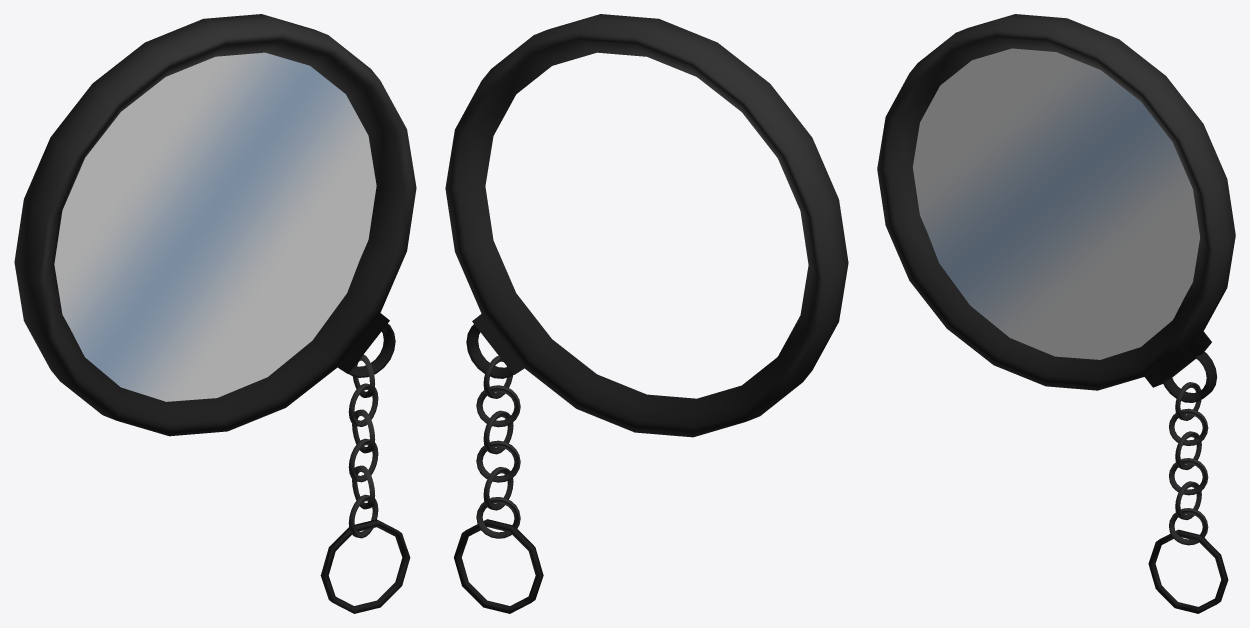
The model's file is EYE_monocle.gltf.
The picture shows the model from 3 angles, left to right: view 1: azimuth 30°, elevation 25°; view 2: azimuth 150°, elevation 25°; view 3: azimuth 330°, elevation 25°; orthographic projection. The views are drawn at different scales.
Visible parts, largest first — view 1: monocle_lens, monocle_frame; view 2: monocle_frame; view 3: monocle_lens, monocle_frame.
Boxes of the visible parts, left/top/right/bottom form: monocle_lens: left=54, top=52, right=376, bottom=401; monocle_frame: left=14, top=14, right=416, bottom=613; monocle_frame: left=445, top=14, right=848, bottom=613; monocle_lens: left=912, top=48, right=1200, bottom=359; monocle_frame: left=877, top=14, right=1235, bottom=613.
Bounding box in the file's own units: 0.2823 × 0.4354 × 0.0309.
Materials: 1 (1 with a texture image).
